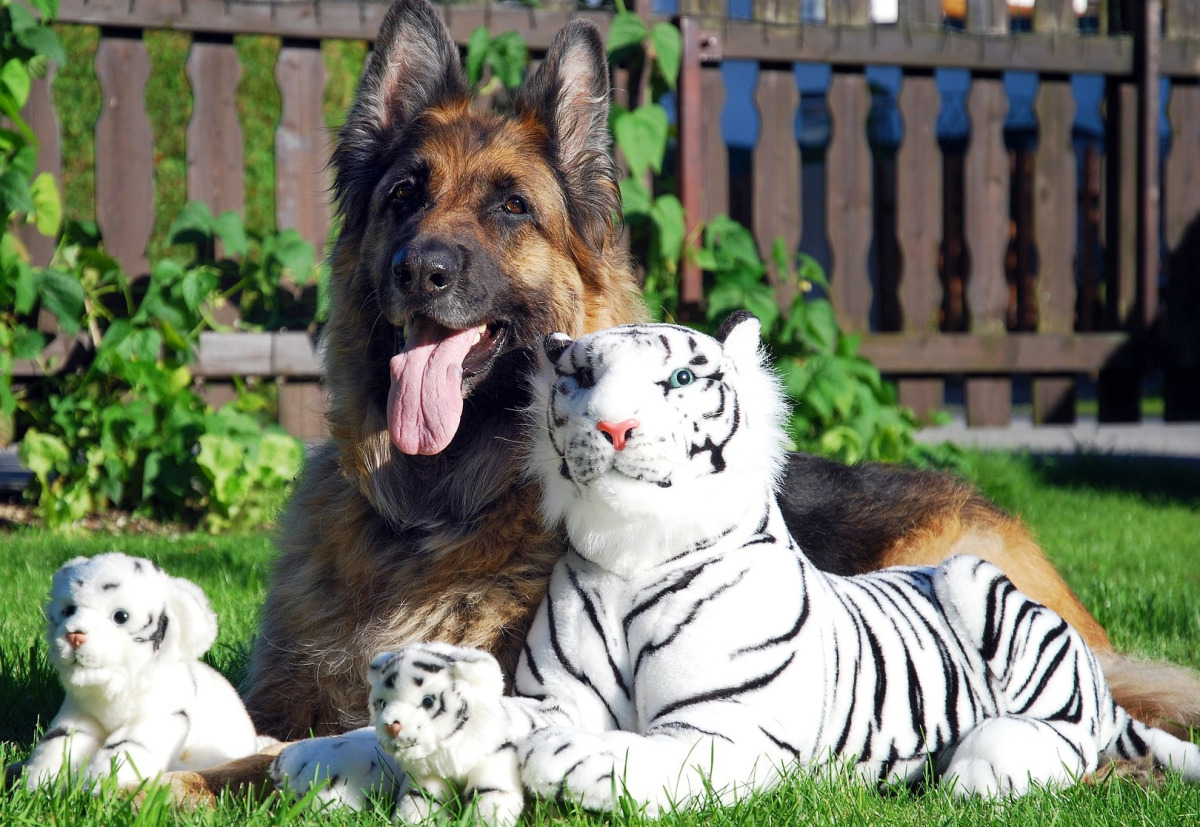dog: (292, 1, 1141, 764)
tiger: (509, 316, 1141, 813), (22, 539, 249, 801), (354, 649, 525, 827)
